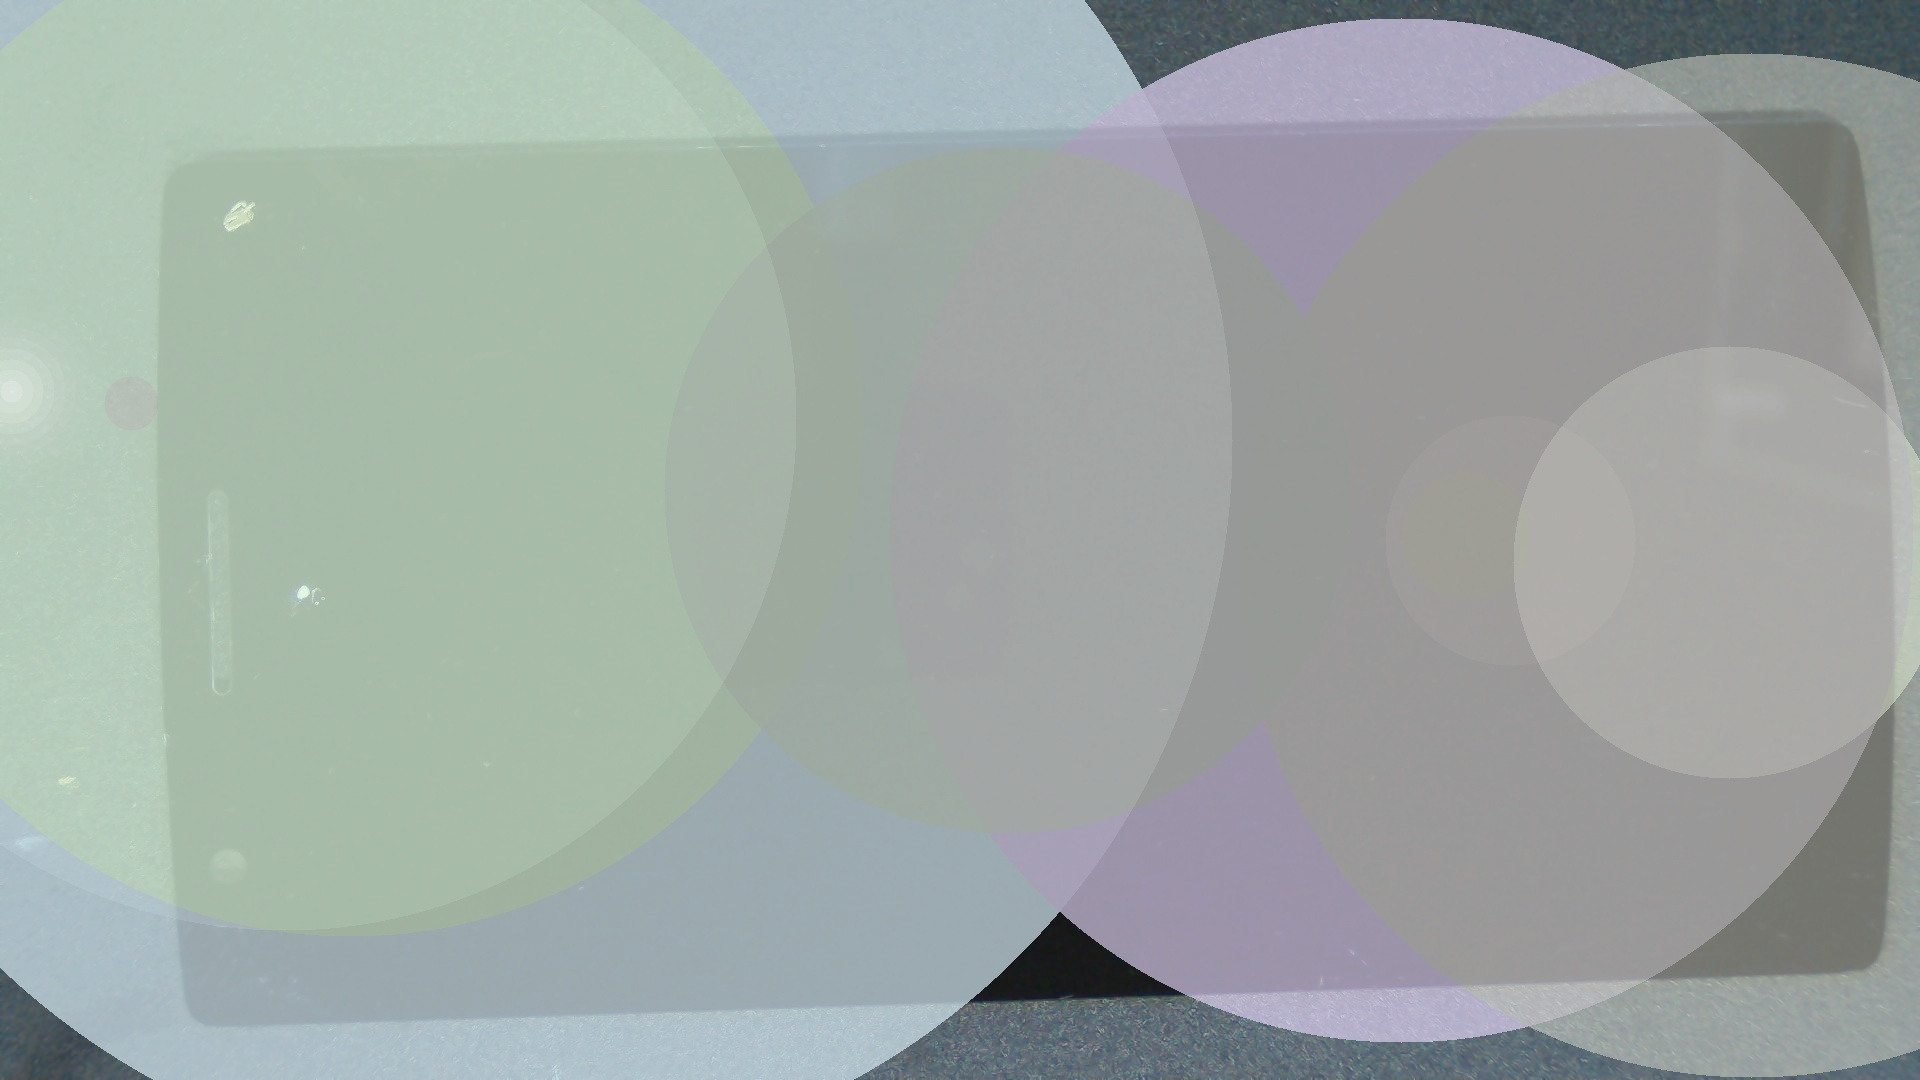oil: (153, 290, 451, 877), (119, 99, 356, 301)
